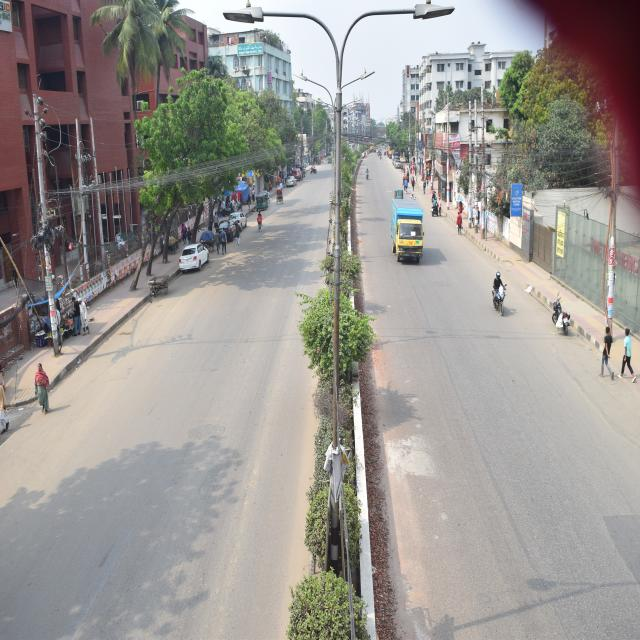car: (173, 241, 213, 278), (227, 206, 254, 236), (216, 217, 238, 245), (392, 153, 403, 168)
motorbike: (546, 286, 578, 337), (490, 271, 513, 311), (428, 197, 444, 221), (308, 167, 319, 178), (366, 171, 370, 181)
pickup-van: (387, 192, 428, 270)
